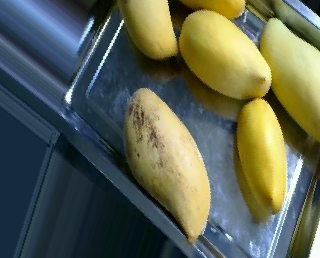Mango: (123, 88, 211, 237), (178, 9, 271, 98), (259, 18, 320, 141), (236, 98, 287, 215), (117, 0, 178, 60), (179, 0, 244, 17)
